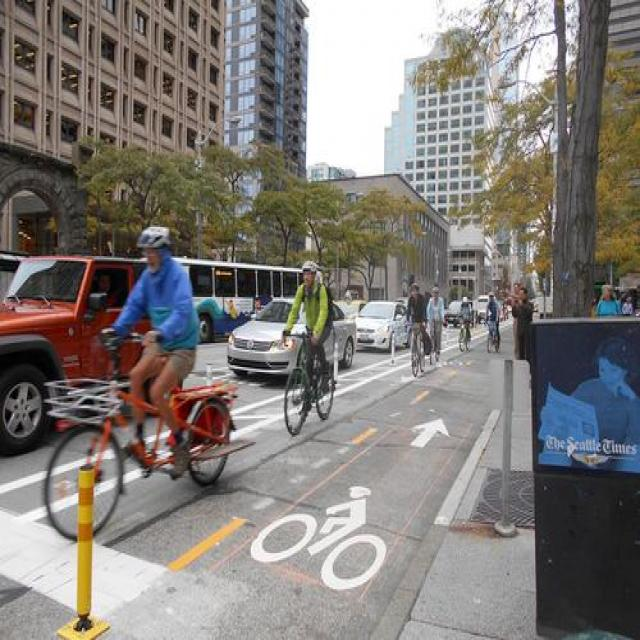bikerider: (39, 213, 246, 532), (269, 254, 343, 430), (393, 275, 427, 375), (416, 282, 448, 362), (475, 282, 507, 356), (447, 292, 475, 355)
